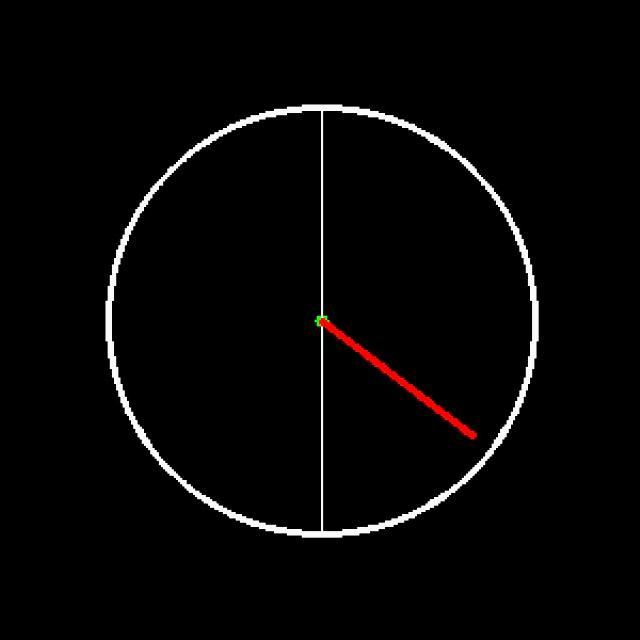Needle_Tip: (447, 413, 494, 455)
Needle_base: (298, 284, 360, 357)
